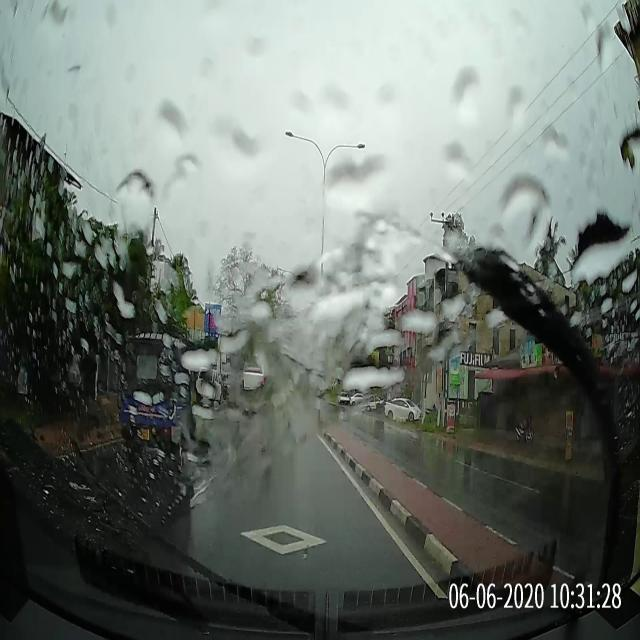diamond: (194, 493, 421, 559)
